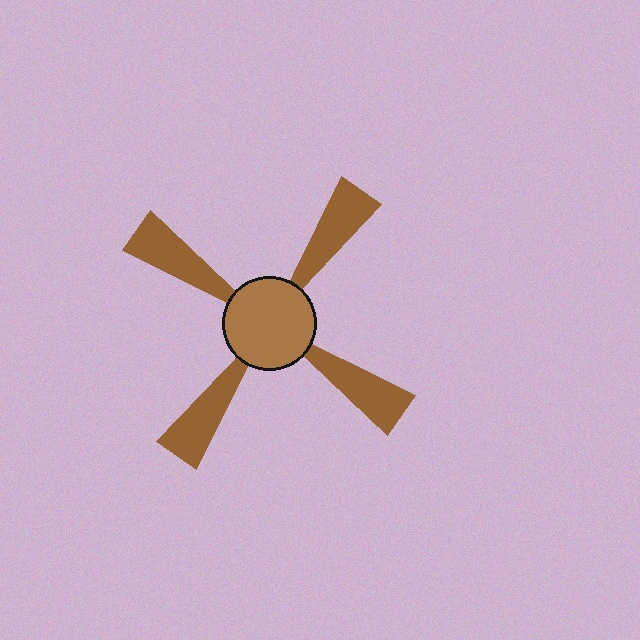fan: (77, 131, 461, 515)
